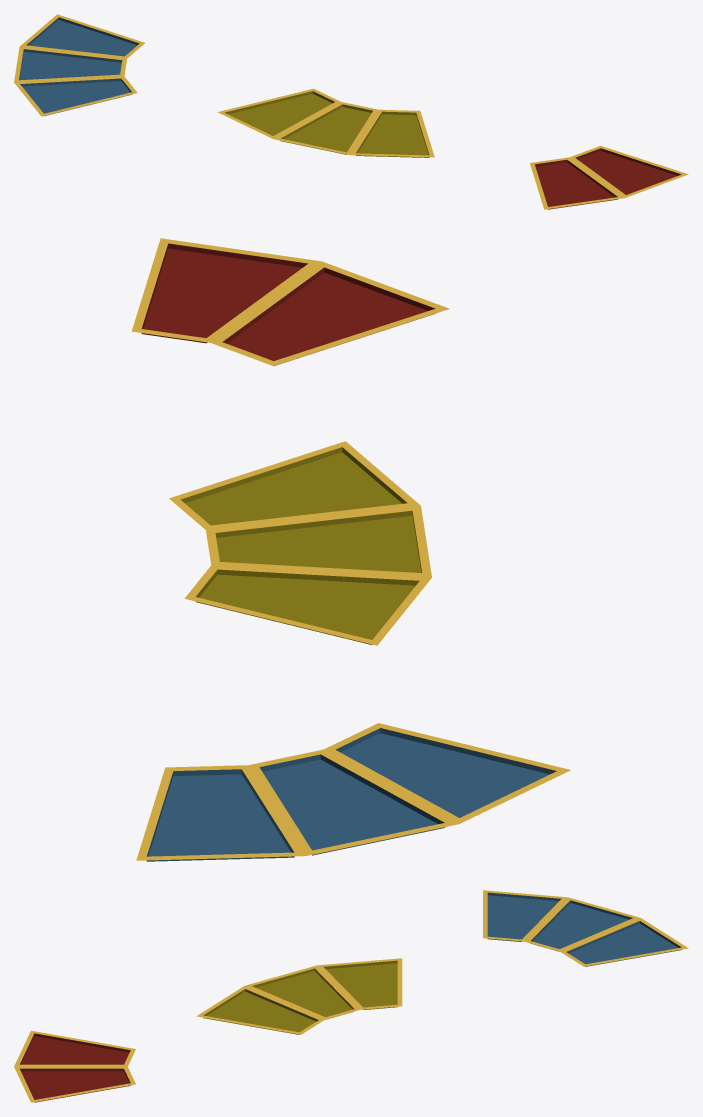
3 renders of one model, top to bottom at view 1: azimuth 30°, elevation 25°; view 2: azimuth 150°, elevation 25°; view 3: azimuth 270°, elevation 25°, orthographic. The views are drawn at different scales.
Visible parts, largest first — view 1: Money3, Shields3, Attack2; view 2: Shields3, Money3, Attack2; view 3: Money3, Shields3, Attack2.
Part boxes in pixels (x1,y1,x2,y2): Money3: (217, 88, 434, 157); Shields3: (14, 14, 144, 116); Attack2: (530, 145, 688, 209); Shields3: (136, 723, 570, 861); Money3: (169, 441, 431, 645); Attack2: (131, 238, 449, 366); Money3: (196, 958, 402, 1034); Shields3: (483, 890, 688, 966); Attack2: (14, 1030, 135, 1102).
Size of the model in its own units: 451 by 2.58 by 605.
